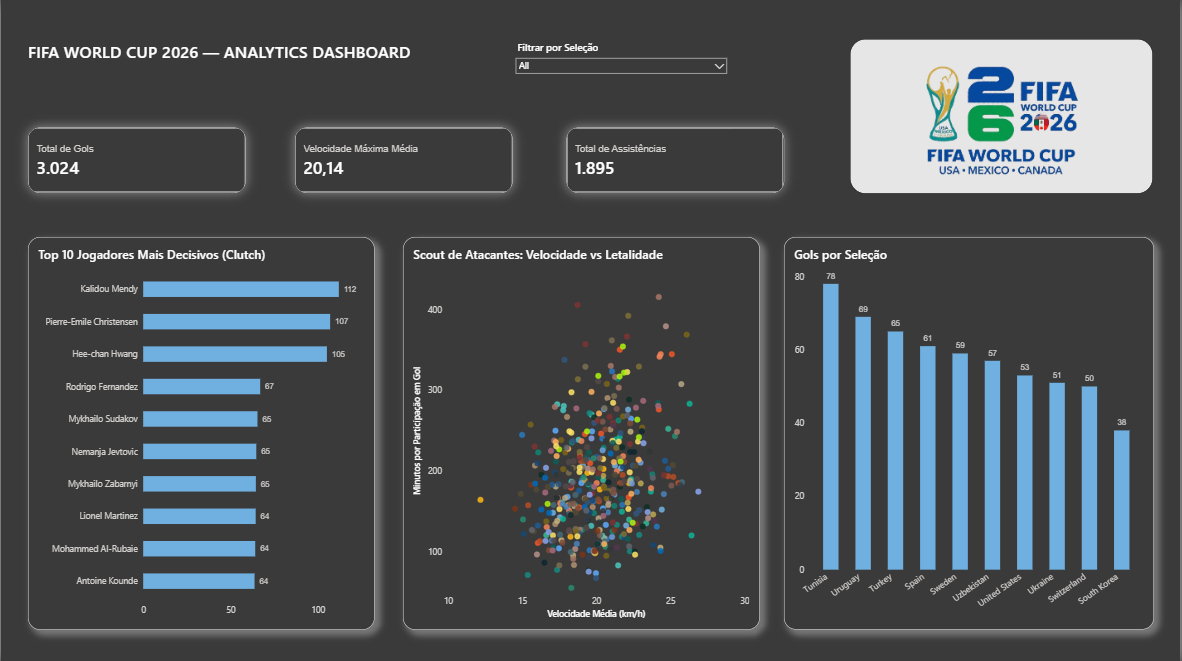

The page's visual inventory and layout, read from the dashboard file:
{"tool":"powerbi","page":{"name":"Page 1","canvas":[1920,1080],"ordinal":0},"visuals":[{"type":"clusteredBarChart","title":"Top 10 Jogadores Mais Decisivos (Clutch)","fields":{"Category":["portfolio_fifa2026 vw_top_jogadores_clutch.player_name"],"Y":["Sum(portfolio_fifa2026 vw_top_jogadores_clutch.espirito_clutch)"]},"box":[43.9,385.9,564.7,640],"z":0},{"type":"scatterChart","title":"Scout de Atacantes: Velocidade vs Letalidade","fields":{"Category":["portfolio_fifa2026 vw_eficiencia_atacantes.jogador"],"Series":["portfolio_fifa2026 vw_eficiencia_atacantes.selecao"],"X":["Sum(portfolio_fifa2026 vw_eficiencia_atacantes.velocidade_max_media)"],"Y":["Sum(portfolio_fifa2026 vw_eficiencia_atacantes.mins_para_participar_gol)"]},"box":[654.9,386.1,581.6,640.3],"z":1000},{"type":"clusteredColumnChart","title":"Gols por Seleção","fields":{"Category":["portfolio_fifa2026 vw_ranking_goleadores_selecao.selecao"],"Y":["Sum(portfolio_fifa2026 vw_ranking_goleadores_selecao.total_gols)"]},"box":[1275.6,387.3,602.4,639.3],"z":2000},{"type":"cardVisual","fields":{"Data":["Sum(portfolio_fifa2026 vw_ranking_goleadores_selecao.total_gols)"]},"box":[43.9,207.1,354.5,106.7],"z":3000},{"type":"cardVisual","fields":{"Data":["Avg(portfolio_fifa2026 vw_eficiencia_atacantes.velocidade_max_media)"]},"box":[480,207.1,354.5,106.7],"z":4000},{"type":"cardVisual","fields":{"Data":["Sum(portfolio_fifa2026 vw_eficiencia_atacantes.total_assistencias)"]},"box":[922.4,207.1,354.5,106.7],"z":5000},{"type":"textbox","box":[43.9,65.9,768.6,87.8],"z":6000},{"type":"slicer","fields":{"Values":["portfolio_fifa2026 vw_eficiencia_atacantes.selecao"]},"box":[834.5,65.9,354.5,150.6],"z":7000},{"type":"image","box":[1383.2,63.5,493.6,251.7],"z":8000}]}

Visuals, with their boxes in screenshot pixels (x1, y1, x2, y2), scaled from the page's 1920x1080 canvas onto the 1182x661 screenshot:
"Top 10 Jogadores Mais Decisivos (Clutch)" clusteredBarChart: [27, 236, 375, 628]
"Scout de Atacantes: Velocidade vs Letalidade" scatterChart: [403, 236, 761, 628]
"Gols por Seleção" clusteredColumnChart: [785, 237, 1156, 628]
cardVisual - Sum(portfolio_fifa2026 vw_ranking_goleadores_selecao.total_gols): [27, 127, 245, 192]
cardVisual - Avg(portfolio_fifa2026 vw_eficiencia_atacantes.velocidade_max_media): [296, 127, 514, 192]
cardVisual - Sum(portfolio_fifa2026 vw_eficiencia_atacantes.total_assistencias): [568, 127, 786, 192]
textbox: [27, 40, 500, 94]
slicer - portfolio_fifa2026 vw_eficiencia_atacantes.selecao: [514, 40, 732, 133]
image: [852, 39, 1155, 193]
